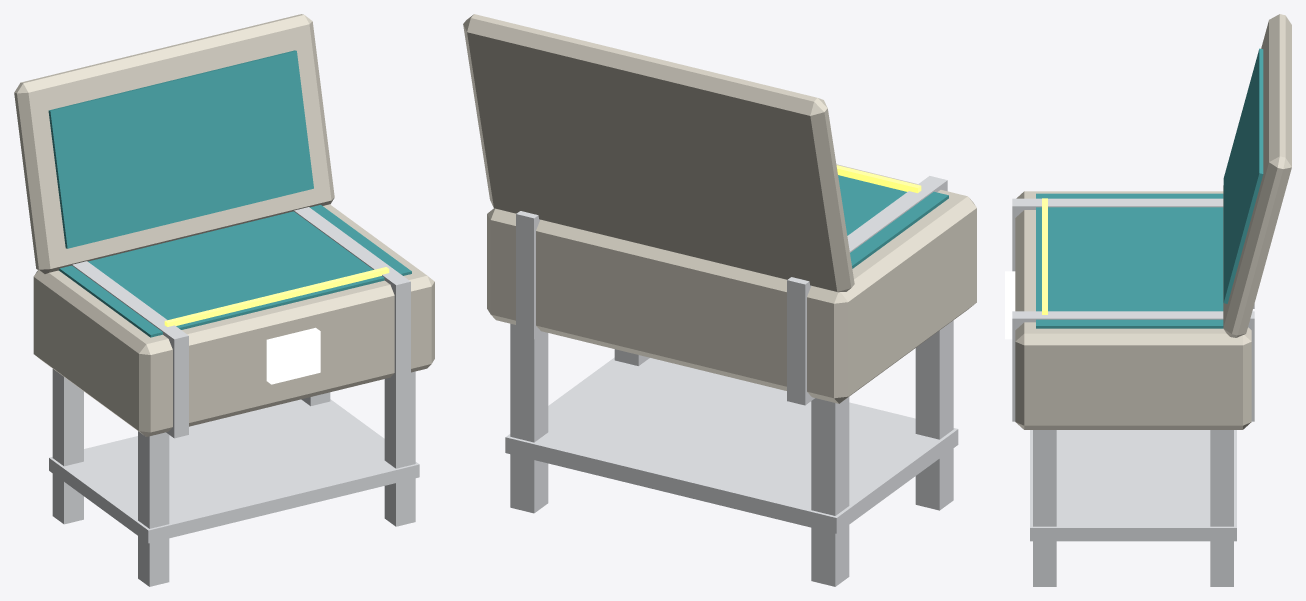
The picture shows the model from 3 angles, left to right: view 1: azimuth 30°, elevation 25°; view 2: azimuth 150°, elevation 25°; view 3: azimuth 270°, elevation 25°; orthographic projection. The views are drawn at different scales.
Parts seen in each view (by area): view 1: lt_box_mp; view 2: lt_box_mp; view 3: lt_box_mp.
Part boxes in pixels (bbox=[...]): lt_box_mp: bbox=[14, 14, 434, 586]; lt_box_mp: bbox=[463, 14, 976, 586]; lt_box_mp: bbox=[1005, 14, 1291, 586].
Size of the model in its own units: 1.2 by 1.62 by 0.9712.
